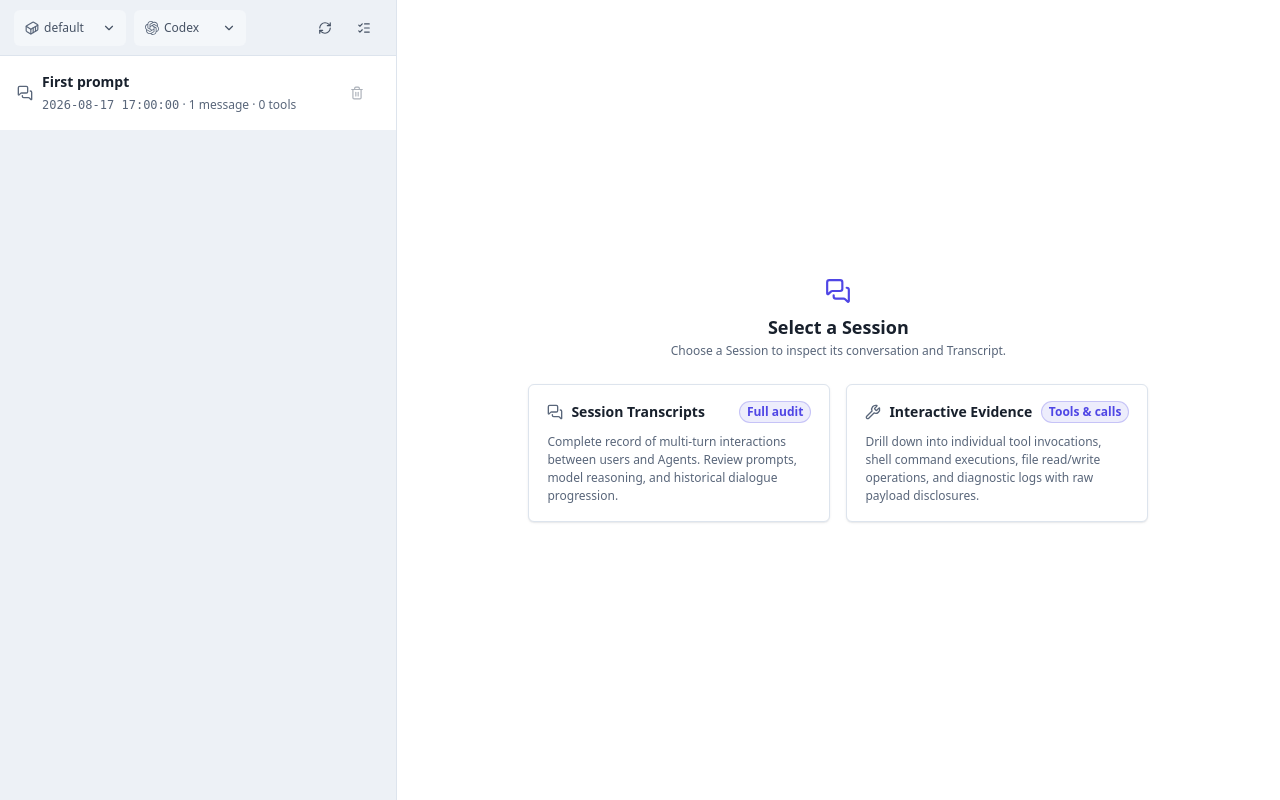
Test: SessionPage › shows error when the selected source cannot be listed
Expected: the button "First prompt" is shown, [17,72,335,114]
Click the button with aria-label "Tenant: default" at (70,28), box [14,10,126,46]
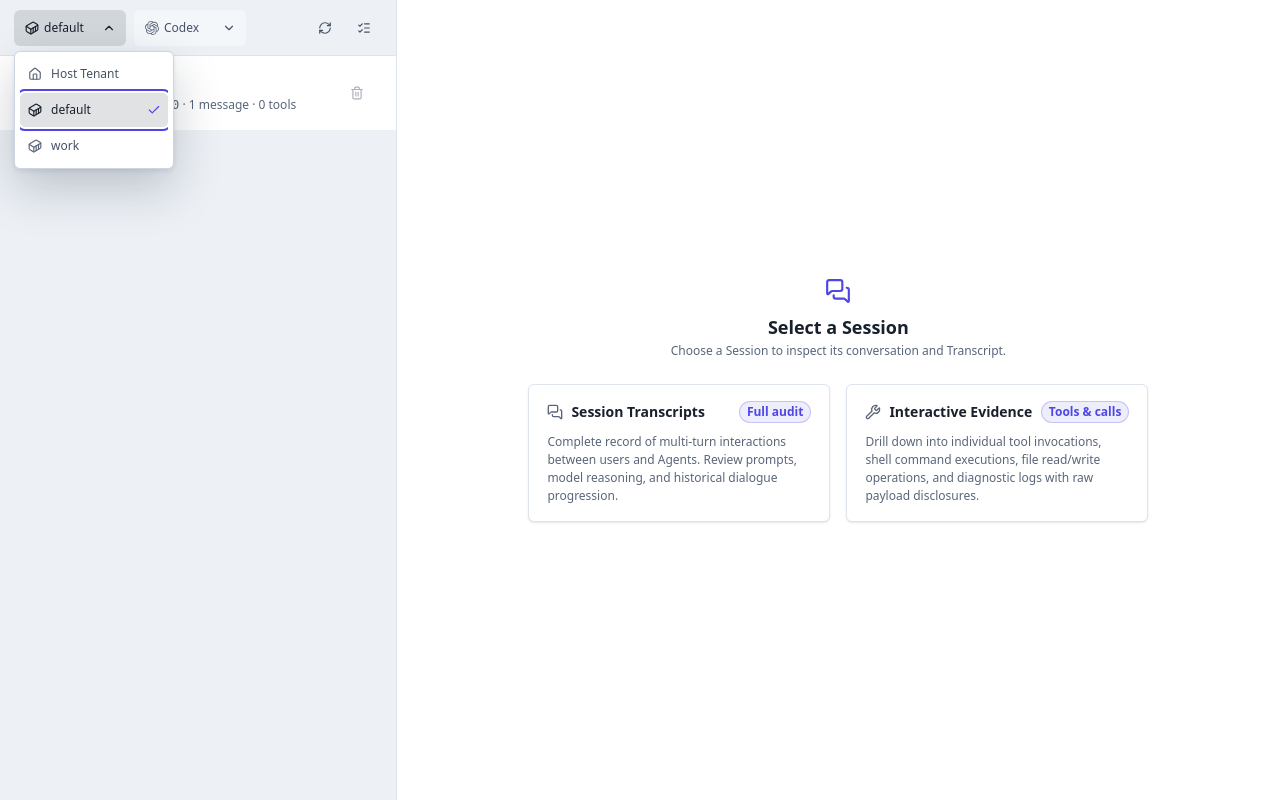
Click the option "work" at (94,146), box [20,128,168,162]
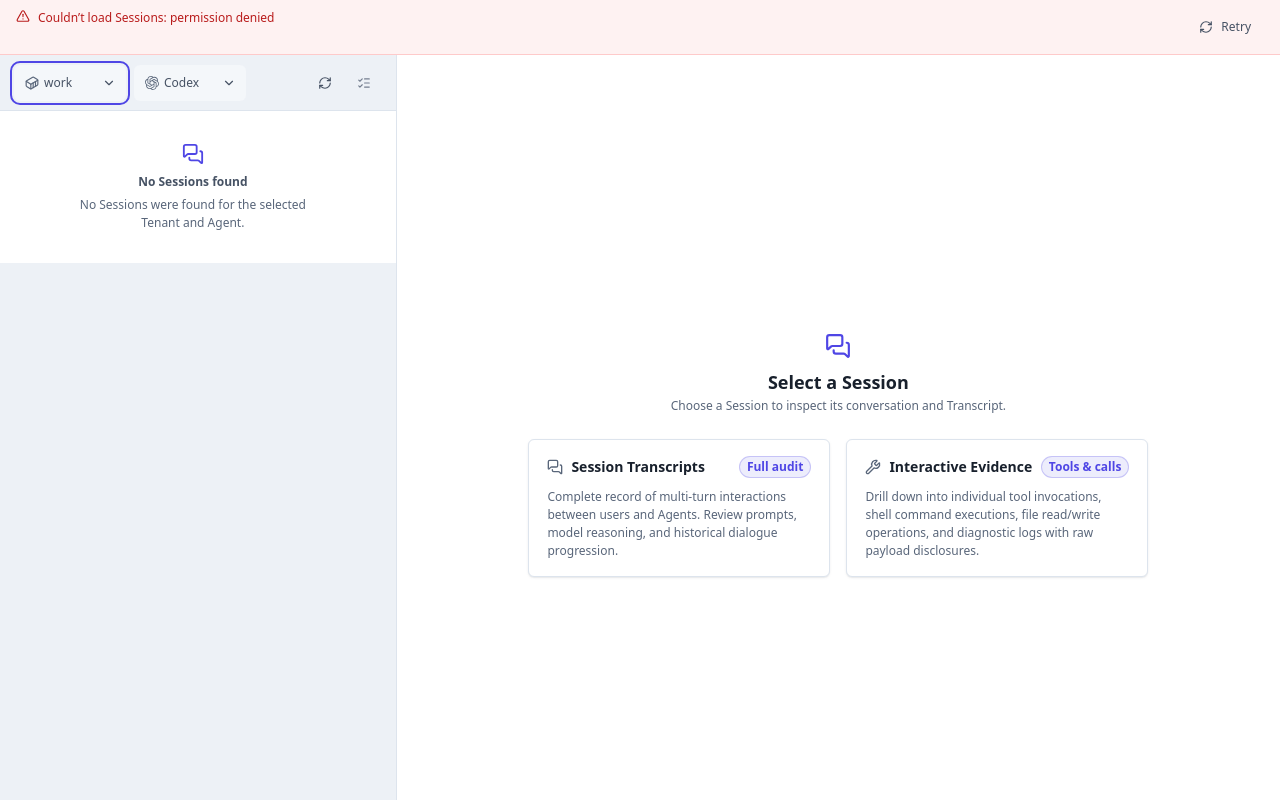
Expected: the message shows "permission denied", [38,9,274,26]
Expected: the button "First prompt" is gone
